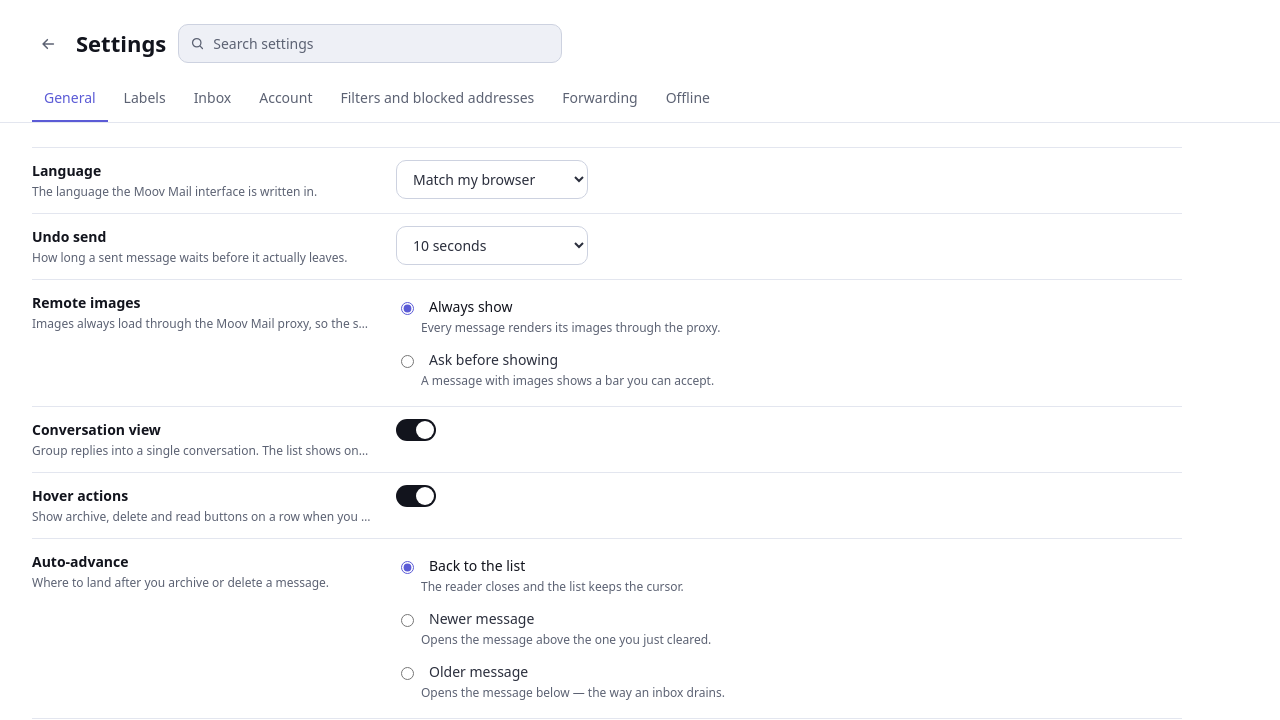
Test: the quick-panel pointer (P0-7) › degrades to plain text when no opener was wired
Step 1. Type "density" into the search field labelled "Search settings" → (370, 44), box [178,24,562,63]
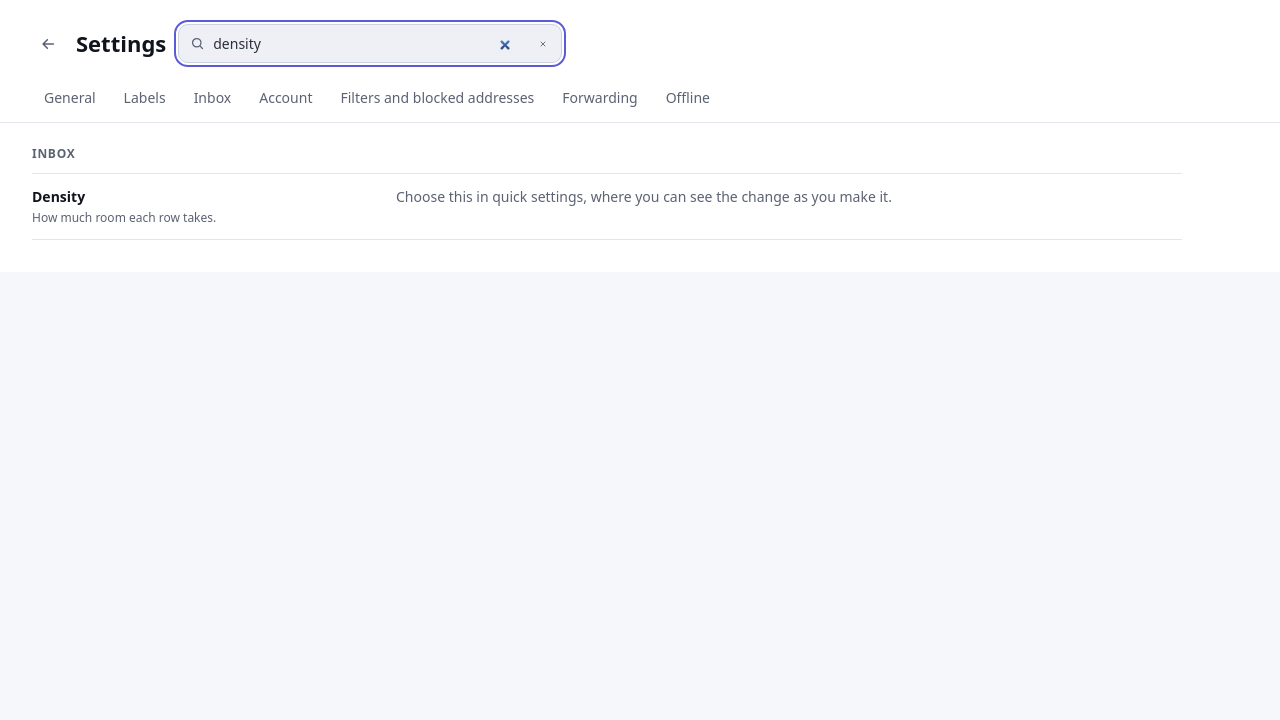
Expected: the text "Choose this in quick settings, where you can see the change as you make it." is shown, [396,186,892,207]
